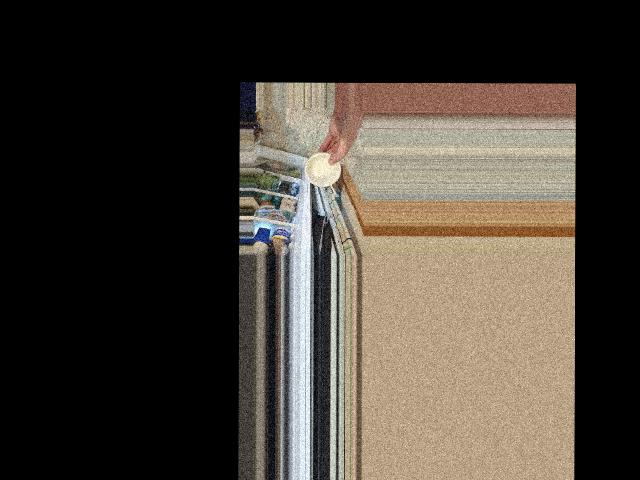cotage: (305, 154, 339, 187)
